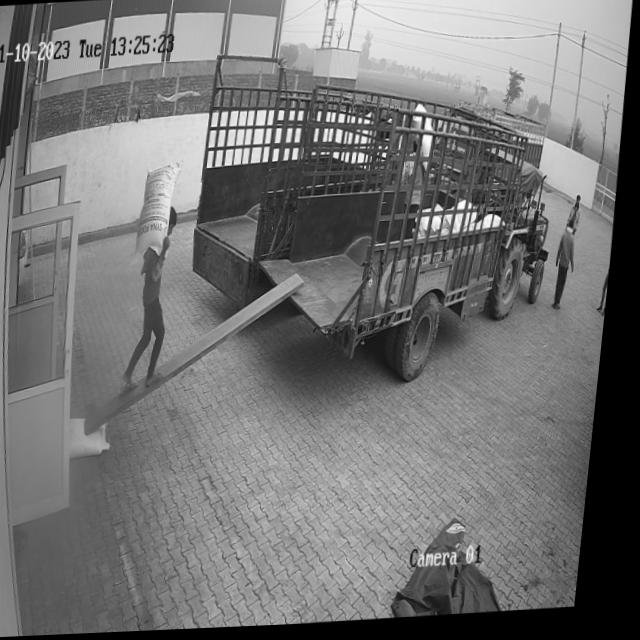sack: (136, 163, 186, 263), (75, 415, 121, 459)
